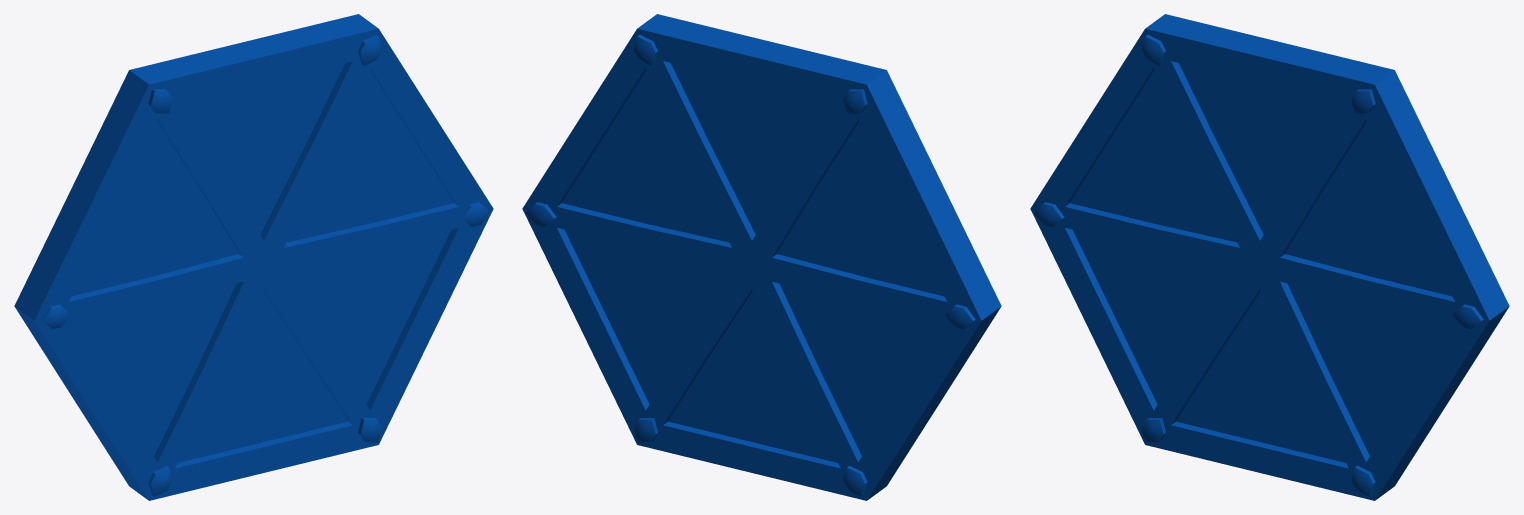
Rendered from Gate_001.FBX.
The picture shows the model from 3 angles, left to right: view 1: azimuth 30°, elevation 25°; view 2: azimuth 150°, elevation 25°; view 3: azimuth 330°, elevation 25°; orthographic projection.
Visible parts, largest first — view 1: Cylinder002; view 2: Cylinder002; view 3: Cylinder002.
Boxes of the visible parts, left/top/right/bottom form: Cylinder002: left=14, top=14, right=493, bottom=500; Cylinder002: left=522, top=14, right=1001, bottom=500; Cylinder002: left=1030, top=14, right=1509, bottom=500.
Size of the model in its own units: 485 by 420 by 53.87.
